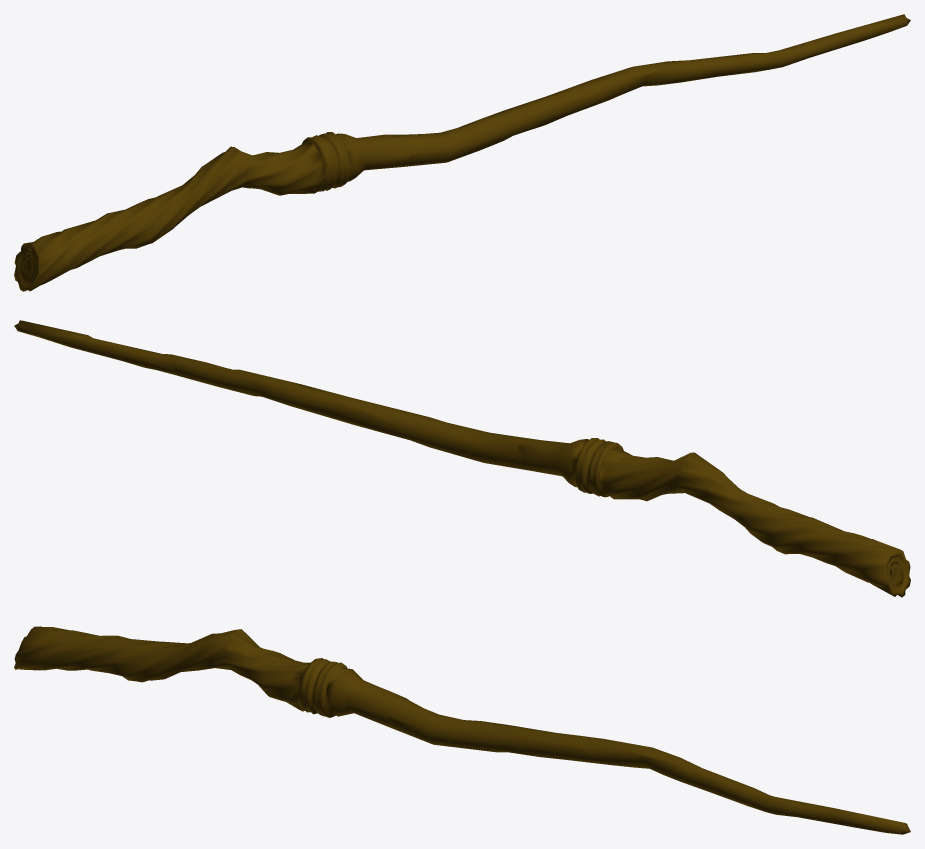
The model's file is wand_wood.glb.
The picture shows the model from 3 angles, top to bottom: view 1: azimuth 30°, elevation 25°; view 2: azimuth 150°, elevation 25°; view 3: azimuth 330°, elevation 25°; orthographic projection.
Visible parts, largest first — view 1: Handle__0; view 2: Handle__0; view 3: Handle__0.
Boxes of the visible parts, x1,y1,x2,y2 form: Handle__0: [14, 14, 910, 291]; Handle__0: [14, 320, 910, 597]; Handle__0: [14, 626, 910, 834].
Size of the model in its own units: 1151 by 111 by 63.43.
